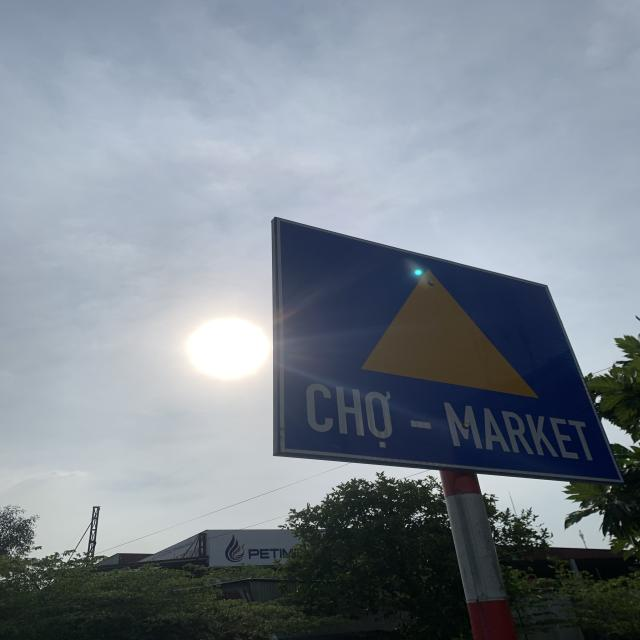Cho_Quay_Xe: (275, 218, 623, 481)
